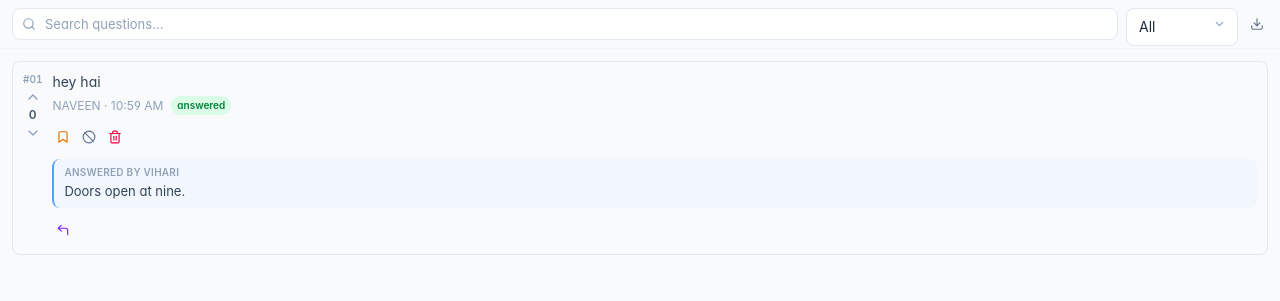
Test: an answer that the server saved › pre-fills the existing text when editing
Click the button named "edit answer" at x=63, y=230, box [52,216,74,244]
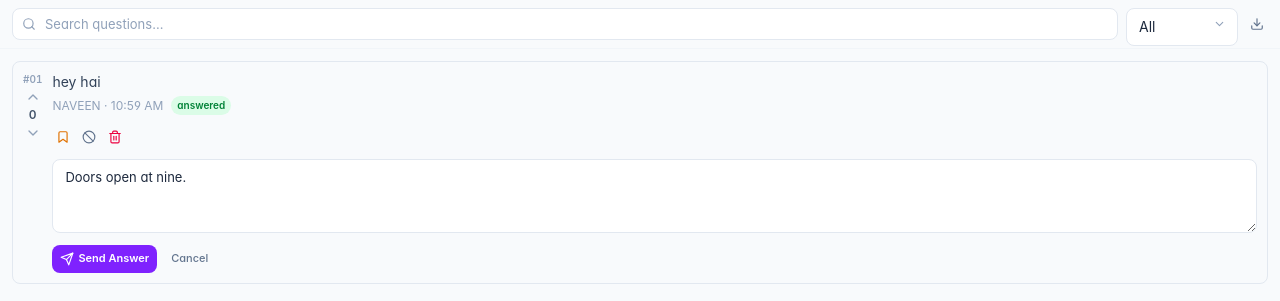
Expected: the text box named "answer the question" holds "Doors open at nine.", [52,159,1257,233]
